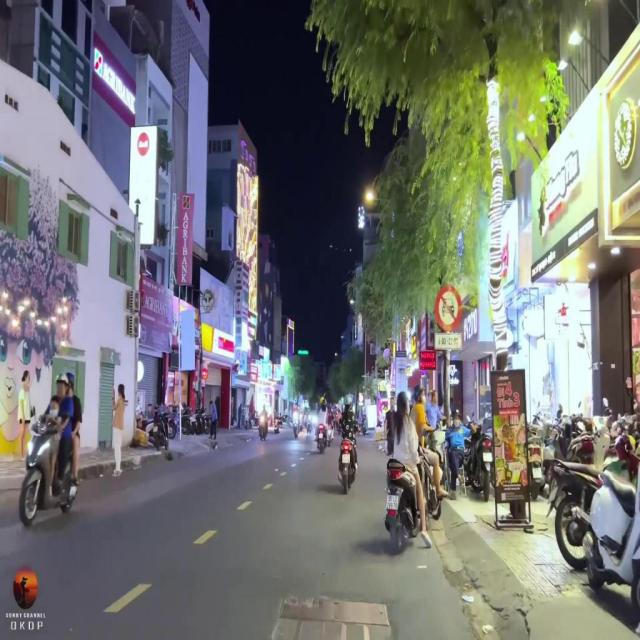cam_o_to: (434, 284, 463, 331)
khac: (435, 334, 462, 349)
